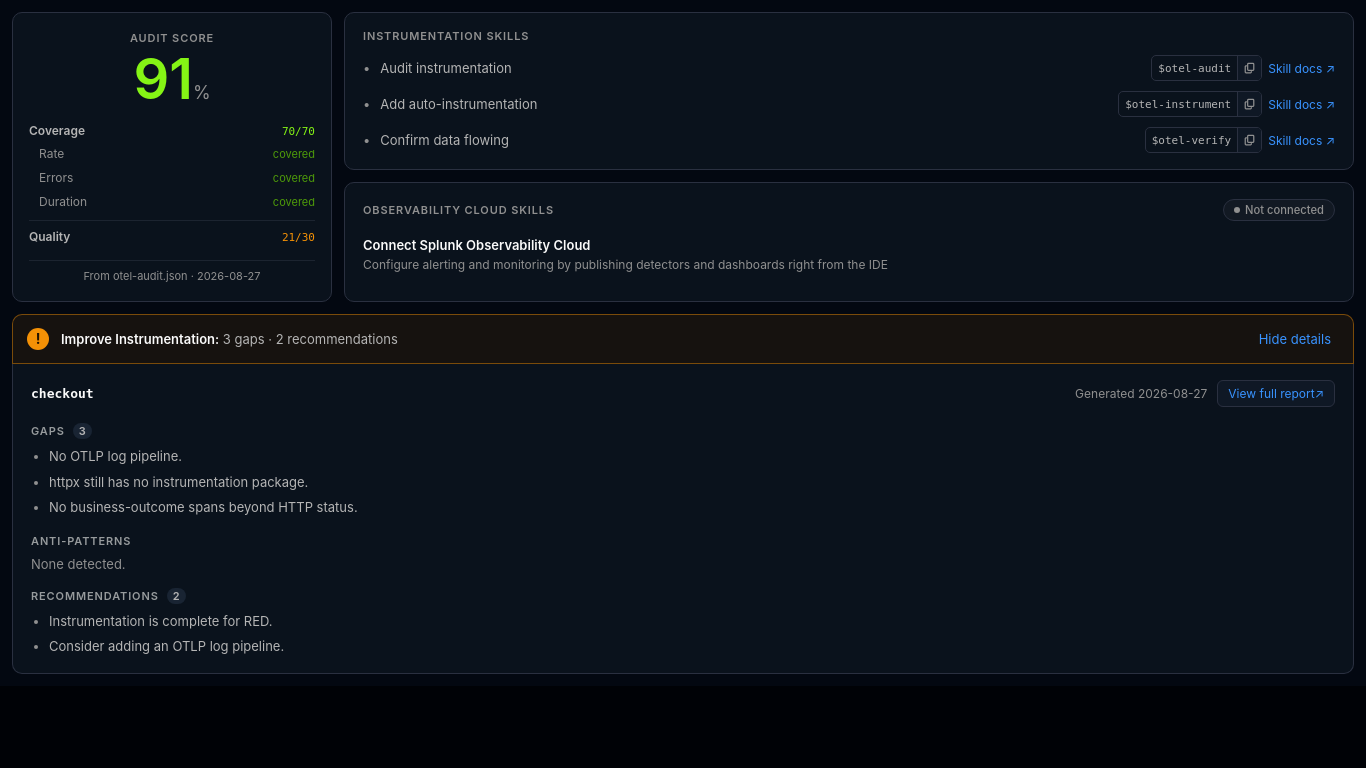
Test: OverviewTab › opens the report details by default and hides them when the callout is clicked
The image size is (1366, 768).
Expected: the element with id "overview-report-details" is shown, [12,364,1354,674]
Step 1. Click the button with class "overview-callout" → (140, 339), box [12,314,1354,364]
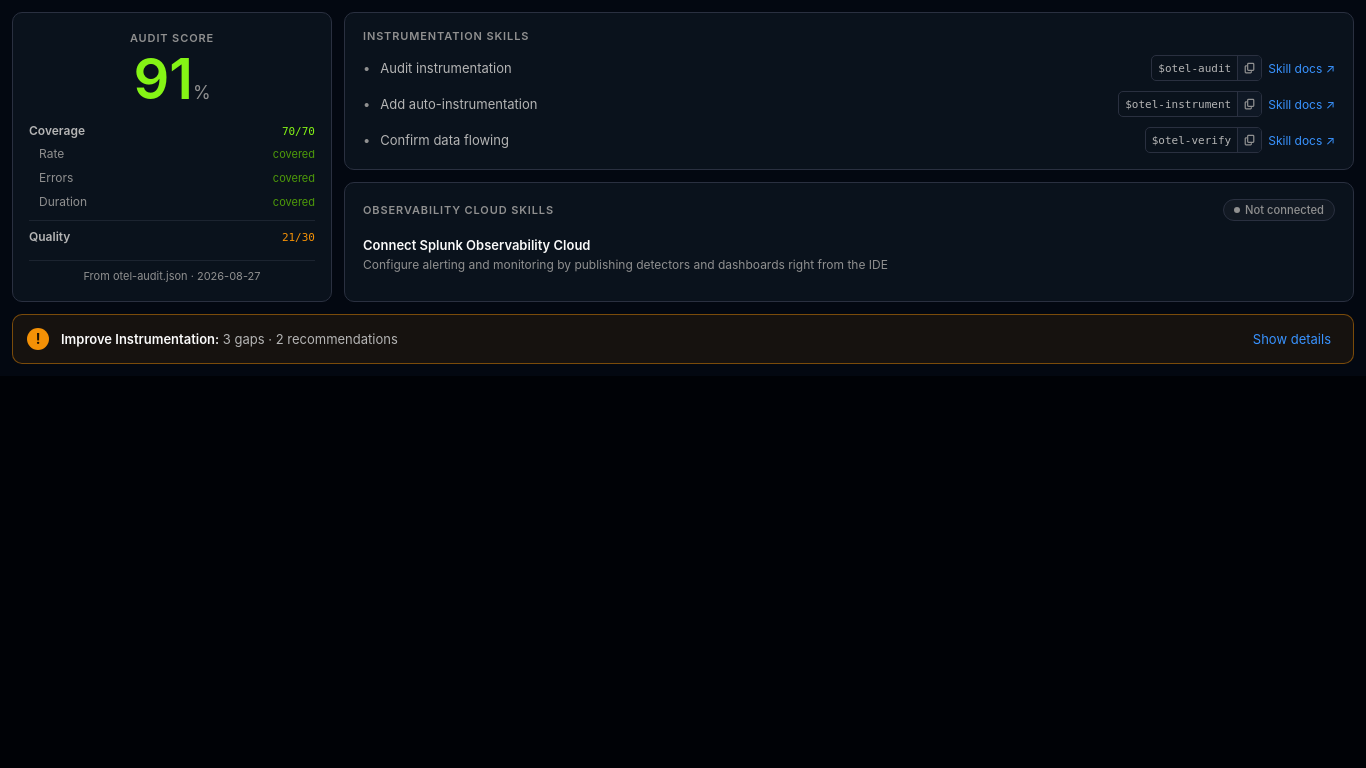
Expected: the button with class "overview-callout" is collapsed, [12,314,1354,364]
Expected: the element with id "overview-report-details" is gone
